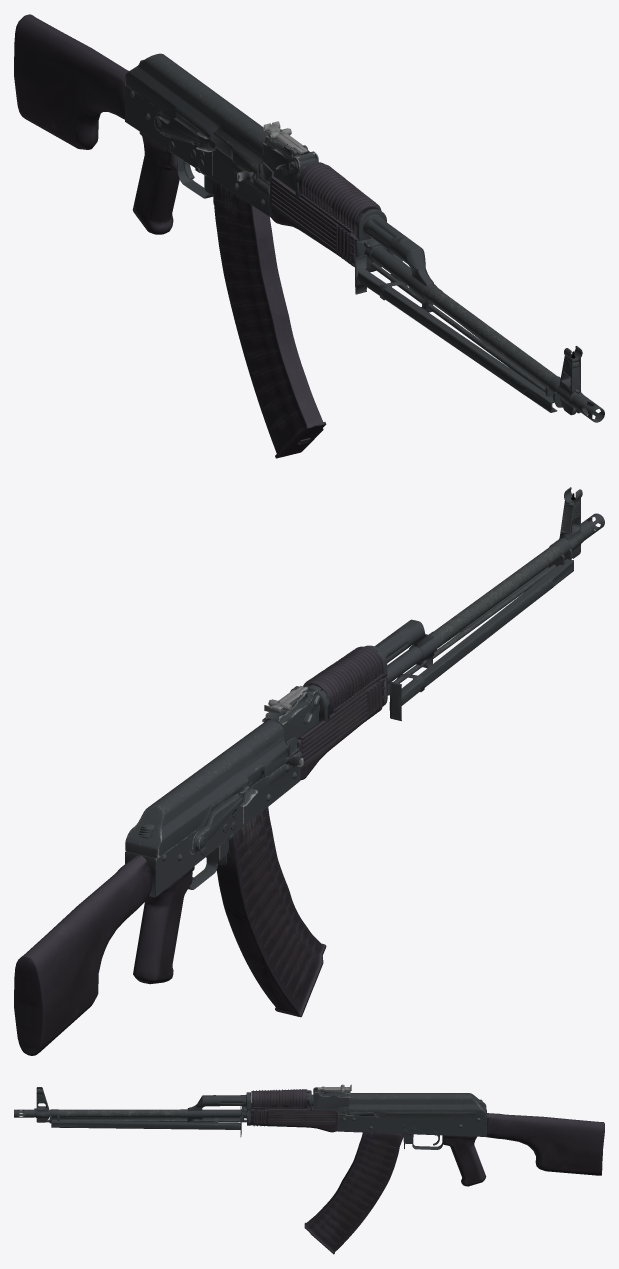
3 renders of one model, top to bottom at view 1: azimuth 30°, elevation 25°; view 2: azimuth 150°, elevation 25°; view 3: azimuth 270°, elevation 25°, orthographic. The views are drawn at different scales.
Visible parts, largest first — view 1: Body_fddhddd, Magazine; view 2: Body_fddhddd, Magazine; view 3: Body_fddhddd, Magazine.
Part boxes in pixels (bbox=[...]): Body_fddhddd: bbox=[14, 14, 604, 444]; Magazine: bbox=[212, 180, 326, 458]; Body_fddhddd: bbox=[14, 487, 604, 1055]; Magazine: bbox=[216, 807, 326, 1017]; Body_fddhddd: bbox=[14, 1084, 604, 1186]; Magazine: bbox=[304, 1132, 401, 1254].
Size of the model in its own units: 0.0605 by 0.3271 by 1.06.
Materials: 1 (1 with a texture image).
